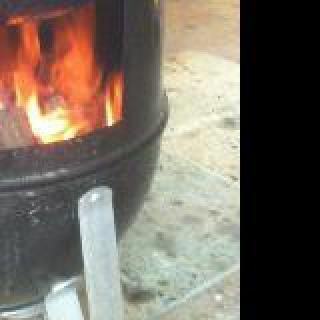fire: (0, 16, 130, 148)
